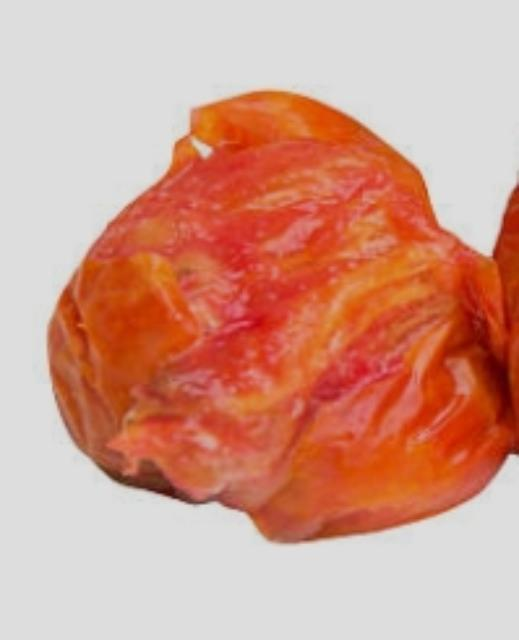defect: (41, 82, 511, 547)
